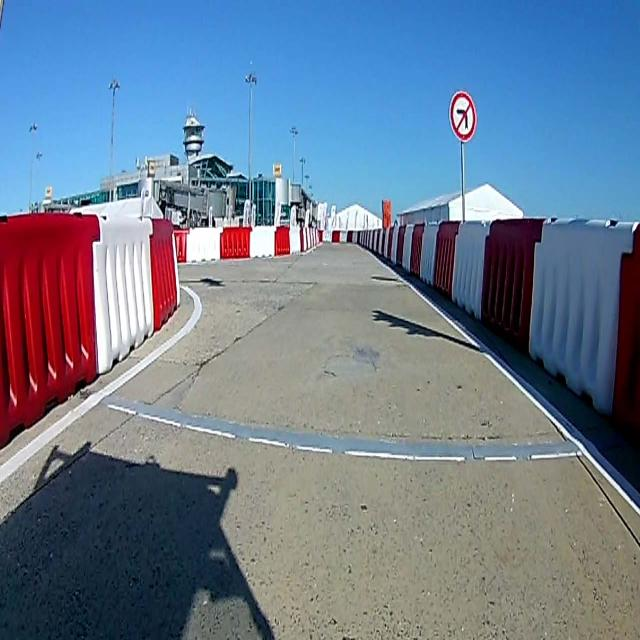soladonulmez: (450, 93, 476, 142)
